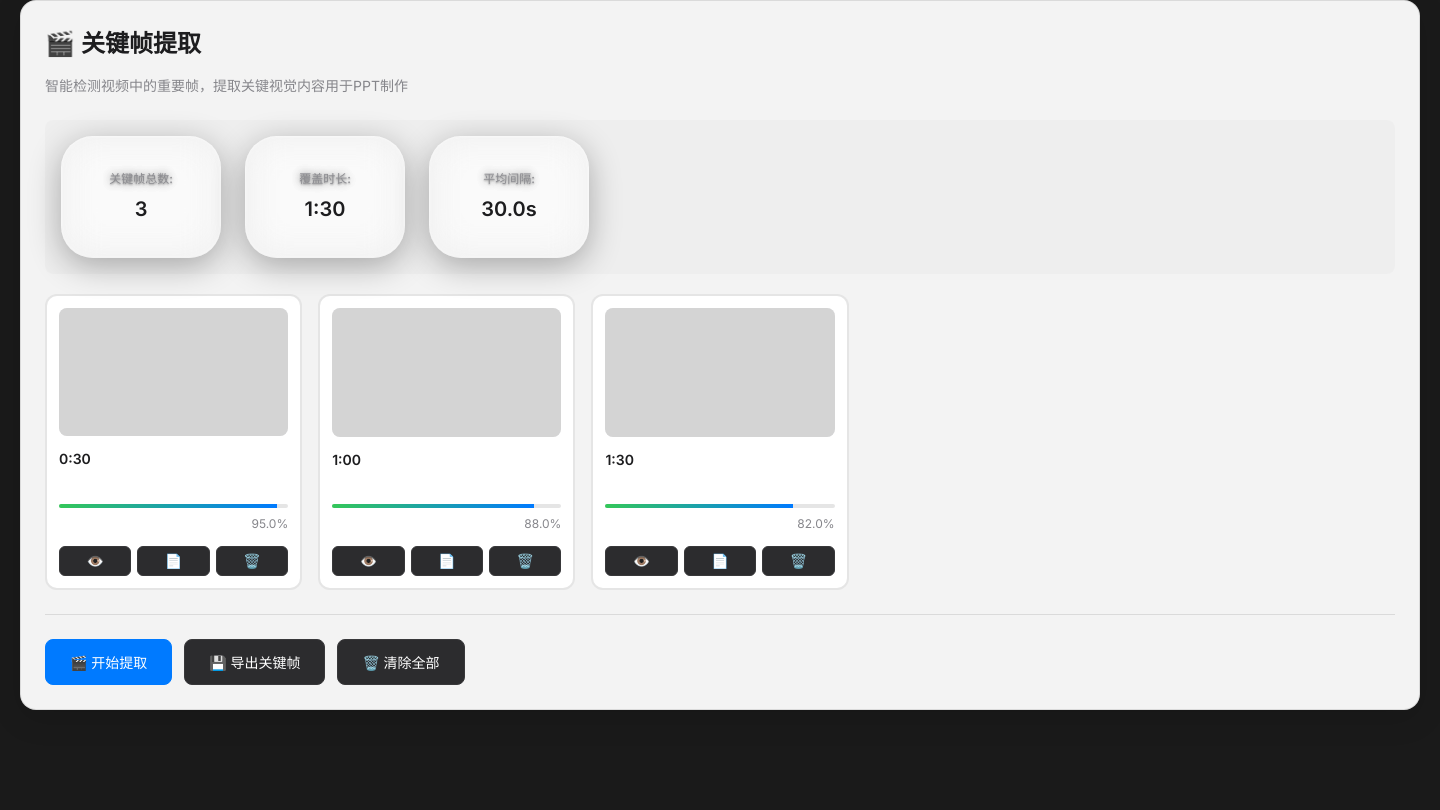
Test case: KeyframeExtractor.vue › 关键帧选择 › 应该能够选择关键帧
The image size is (1440, 810).
Click the button with class "keyframe-item" showing "0:30 其他 95.0% 👁️ 📄 🗑️": {"x": 174, "y": 442} [45,294,302,590]
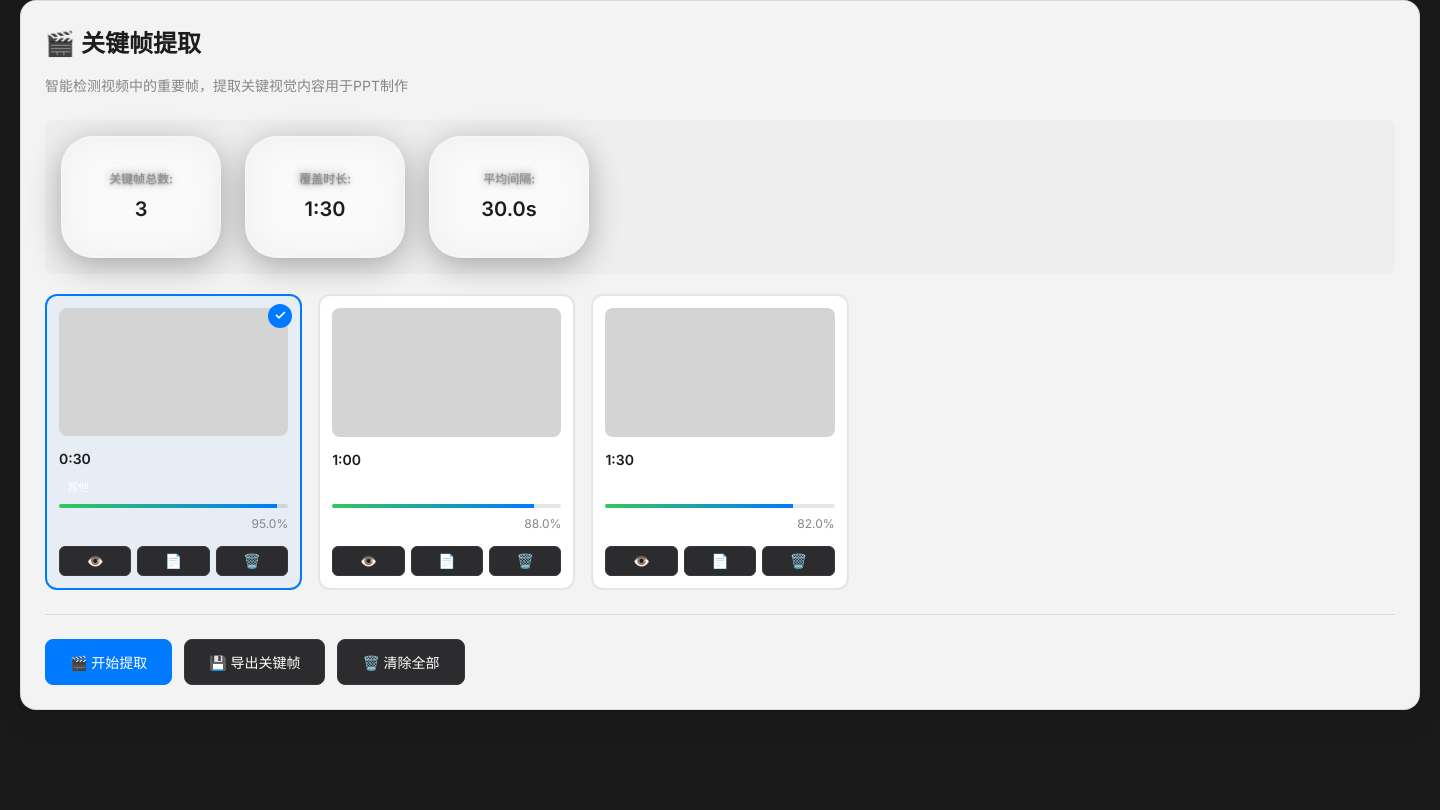
Result: the text "✓" is shown at [268,304,292,328]
